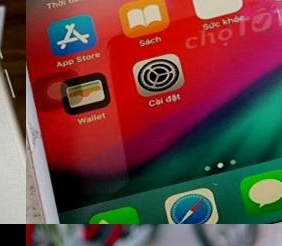physical_damage: (26, 100, 57, 172)
scratch: (0, 137, 11, 224)
